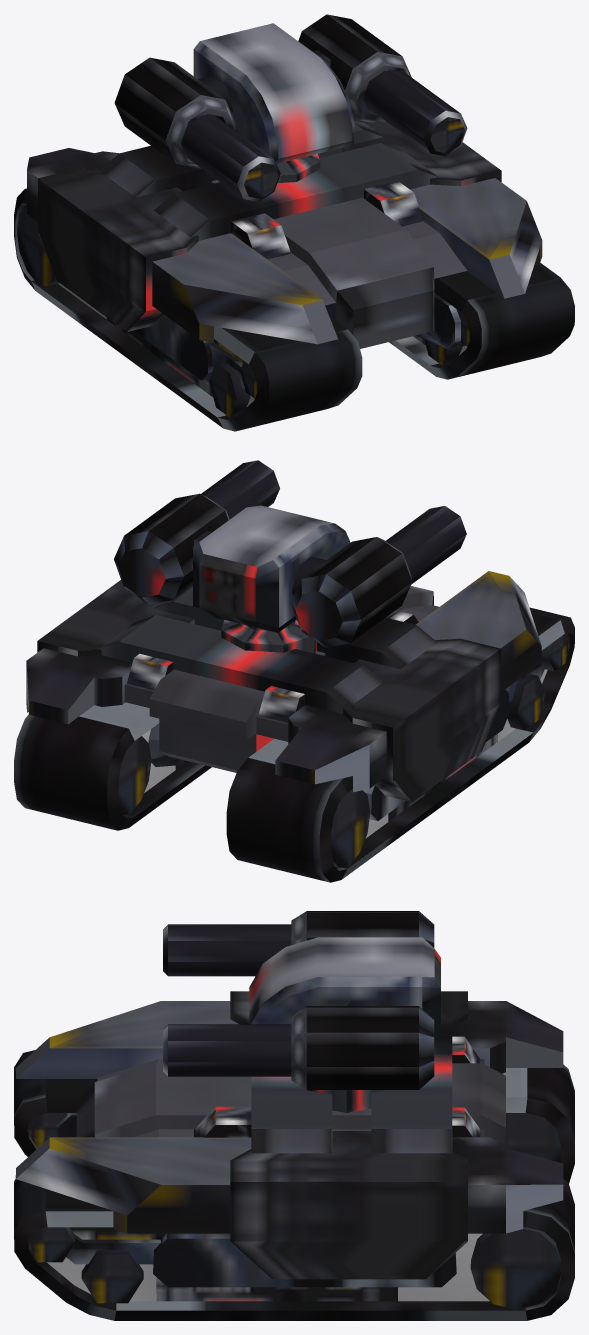
Rendered from armflash_red.glb.
3 views of the same model, one above another, from view 1: azimuth 30°, elevation 25°; view 2: azimuth 150°, elevation 25°; view 3: azimuth 270°, elevation 25° (orthographic). The views are drawn at different scales.
Parts seen in each view (by area): view 1: base, track, parts, turret, sleeve, lbarrel, rbarrel; view 2: base, track, parts, sleeve, turret, rbarrel, lbarrel; view 3: base, track, parts, sleeve, turret, lbarrel, rbarrel.
Boxes of the visible parts, x1,y1,x2,y2 form: base: (27, 107, 542, 389); track: (14, 188, 574, 431); parts: (17, 121, 469, 417); turret: (193, 23, 354, 163); sleeve: (114, 14, 411, 168); lbarrel: (363, 69, 467, 156); rbarrel: (181, 114, 280, 201); base: (26, 571, 545, 820); track: (14, 607, 574, 882); parts: (99, 586, 569, 867); sleeve: (114, 493, 412, 647); turret: (193, 505, 350, 632); rbarrel: (386, 506, 466, 584); lbarrel: (201, 460, 279, 519); base: (15, 991, 563, 1287); track: (14, 1050, 574, 1320); parts: (28, 1018, 560, 1309); sleeve: (291, 911, 434, 1089); turret: (249, 937, 440, 1041); lbarrel: (163, 1024, 291, 1076); rbarrel: (163, 924, 291, 976).
Size of the model in its own units: 22.99 by 15.85 by 28.57.
1 material, 1 textured.
